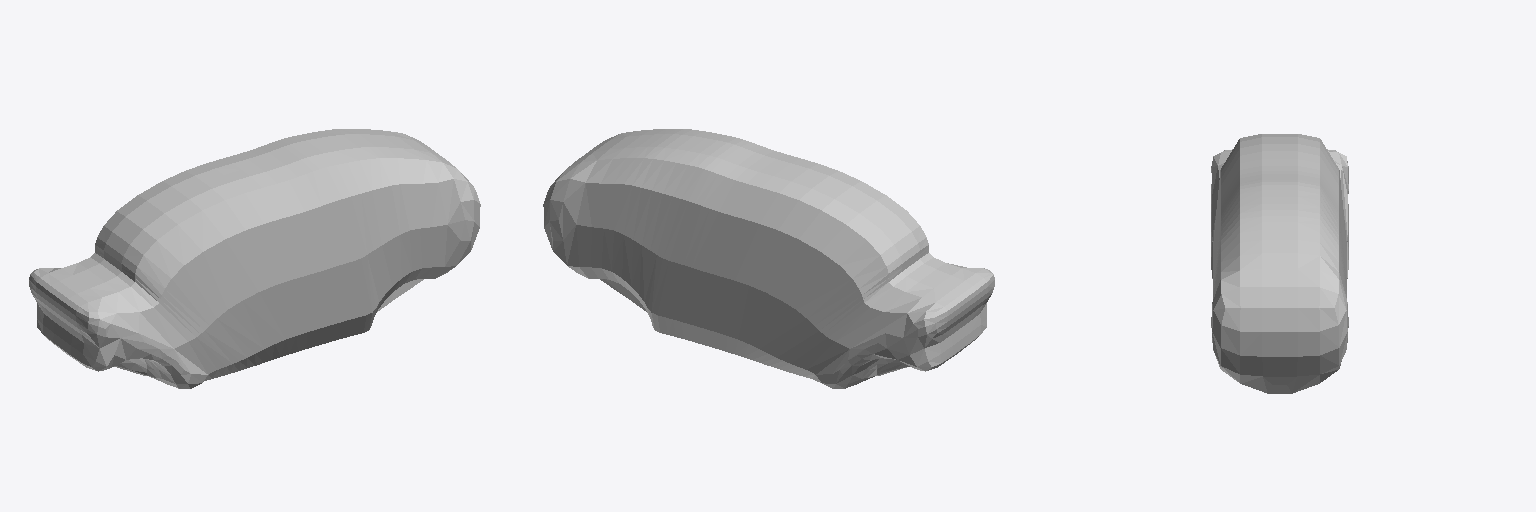
File: dababy.obj
3 views of the same model, side by side, from view 1: azimuth 30°, elevation 25°; view 2: azimuth 150°, elevation 25°; view 3: azimuth 270°, elevation 25° (orthographic).
Parts seen in each view (by area): view 1: Plane.001_Plane.002; view 2: Plane.001_Plane.002; view 3: Plane.001_Plane.002.
Part boxes in pixels (left/top/right/bottom): Plane.001_Plane.002: left=29, top=129, right=480, bottom=388; Plane.001_Plane.002: left=543, top=129, right=994, bottom=388; Plane.001_Plane.002: left=1211, top=134, right=1348, bottom=393.
Size of the model in its own units: 3.36 by 1.52 by 1.